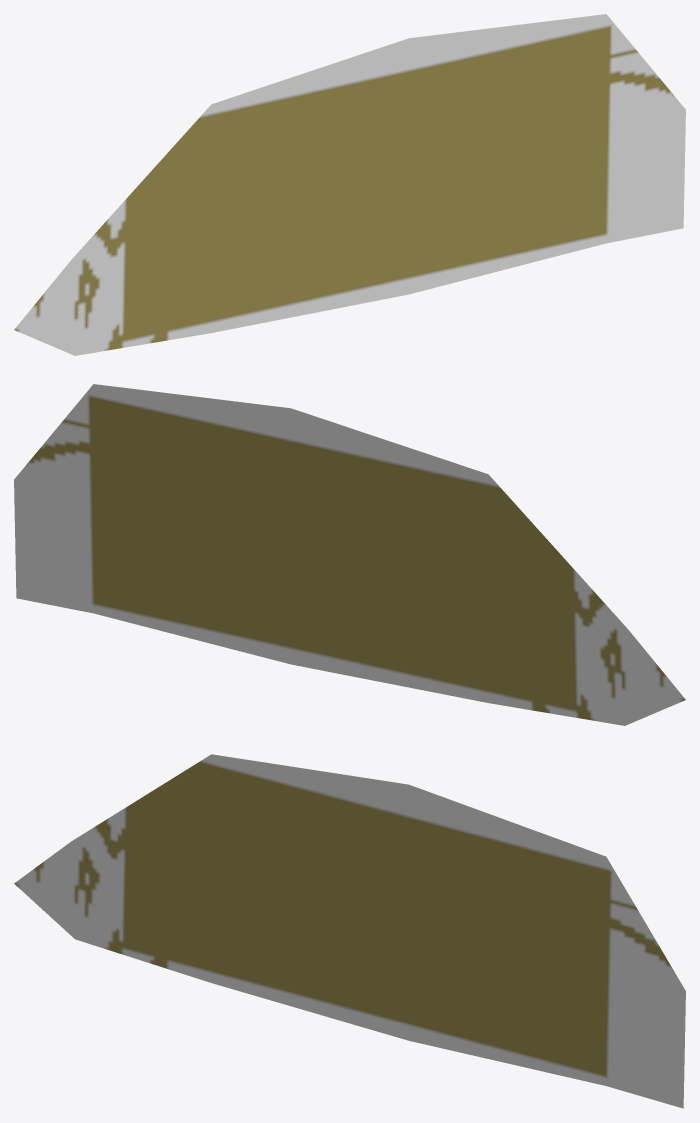
File: SM_Grass_08.fbx
3 views of the same model, one above another, from view 1: azimuth 30°, elevation 25°; view 2: azimuth 150°, elevation 25°; view 3: azimuth 330°, elevation 25° (orthographic).
Parts seen in each view (by area): view 1: SM_Grass_08; view 2: SM_Grass_08; view 3: SM_Grass_08.
Boxes of the visible parts, box(x1,y1,x2,y2) form: SM_Grass_08: box(14, 14, 685, 355); SM_Grass_08: box(14, 384, 685, 725); SM_Grass_08: box(14, 754, 685, 1108).
Size of the model in its own units: 102 by 37.32 by 1.91e-06.
Materials: 1 (1 with a texture image).
